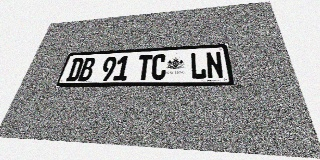1: (113, 56, 130, 81)
9: (99, 56, 117, 81)
B: (77, 57, 96, 81)
C: (151, 54, 167, 80)
D: (65, 58, 84, 82)
L: (190, 52, 207, 79)
N: (205, 51, 224, 79)
T: (136, 55, 153, 80)
